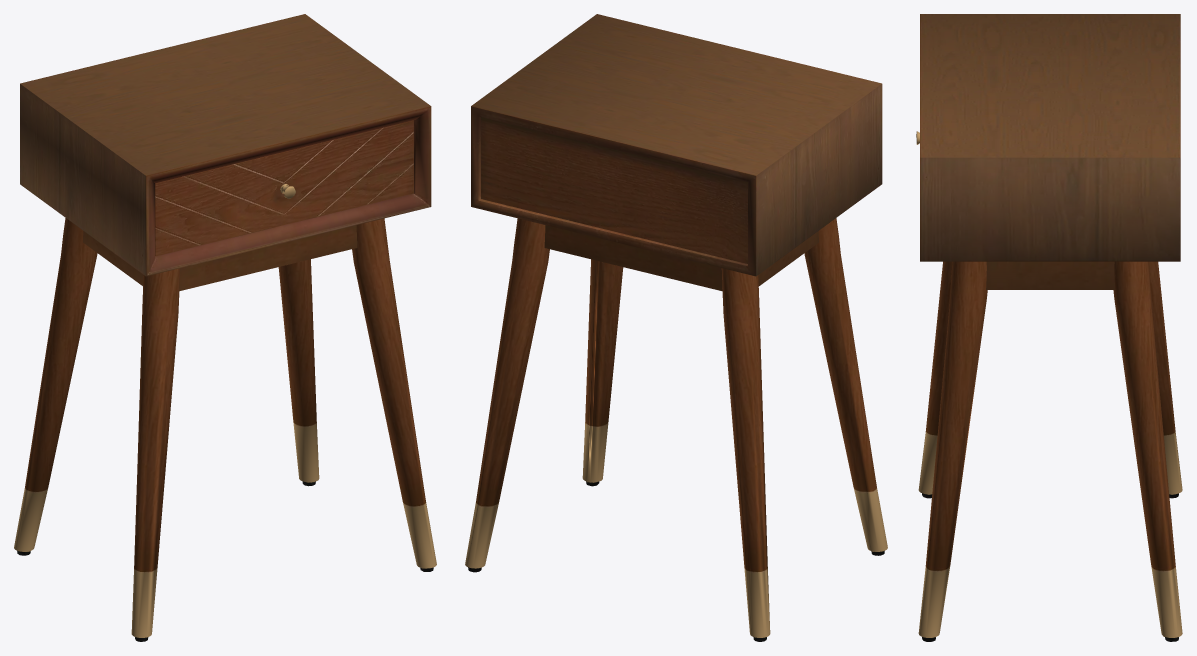
File: abo-B07HSJJVD8.glb
3 renders of one model, left to right at view 1: azimuth 30°, elevation 25°; view 2: azimuth 150°, elevation 25°; view 3: azimuth 270°, elevation 25°, orthographic. The views are drawn at different scales.
Parts seen in each view (by area): view 1: RootNode; view 2: RootNode; view 3: RootNode.
Part boxes in pixels (<box>): RootNode: <box>14,14,436,641</box>; RootNode: <box>465,14,887,641</box>; RootNode: <box>916,14,1182,641</box>.
Bounding box in the file's own units: 0.4061 × 0.5982 × 0.2997.
Materials: 1 (1 with a texture image).
